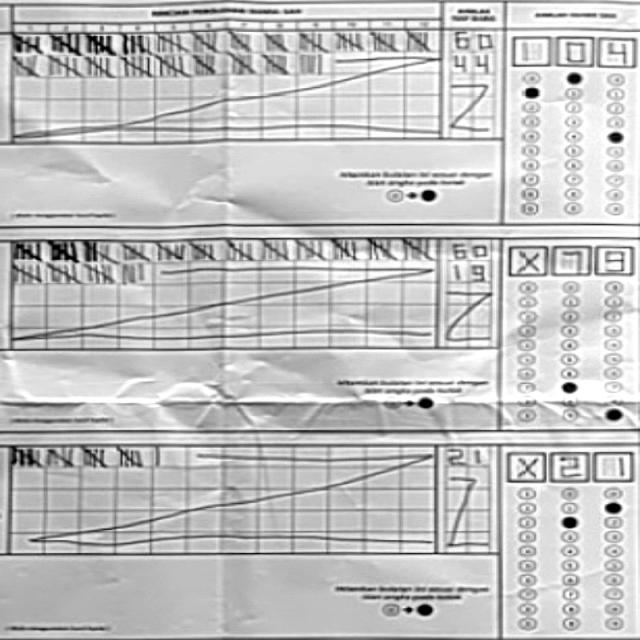Suara: (507, 31, 638, 70), (505, 239, 635, 278), (505, 448, 635, 486)
